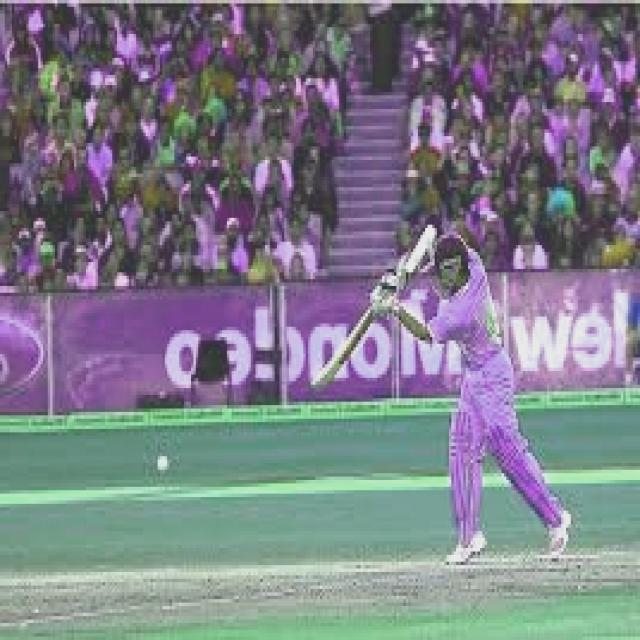bat: (304, 276, 398, 414)
